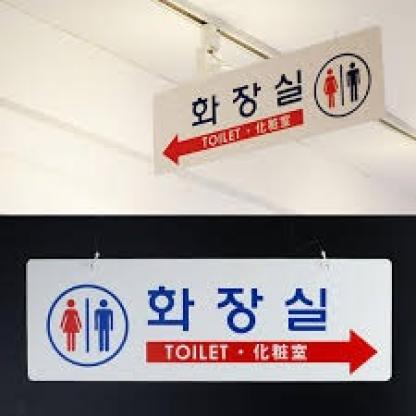toilet: (61, 294, 116, 358), (321, 58, 368, 114)
